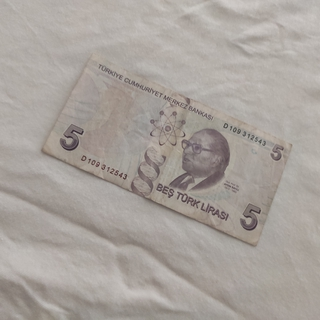5TLBack: (40, 55, 293, 246)
